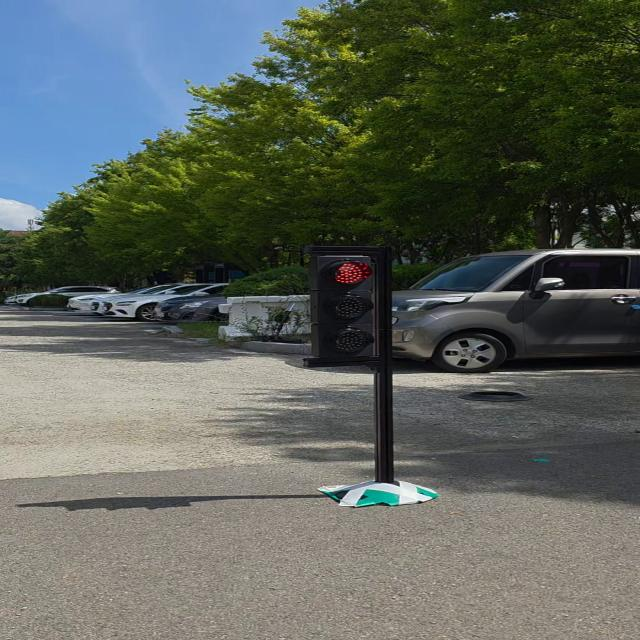red: (304, 244, 393, 360)
